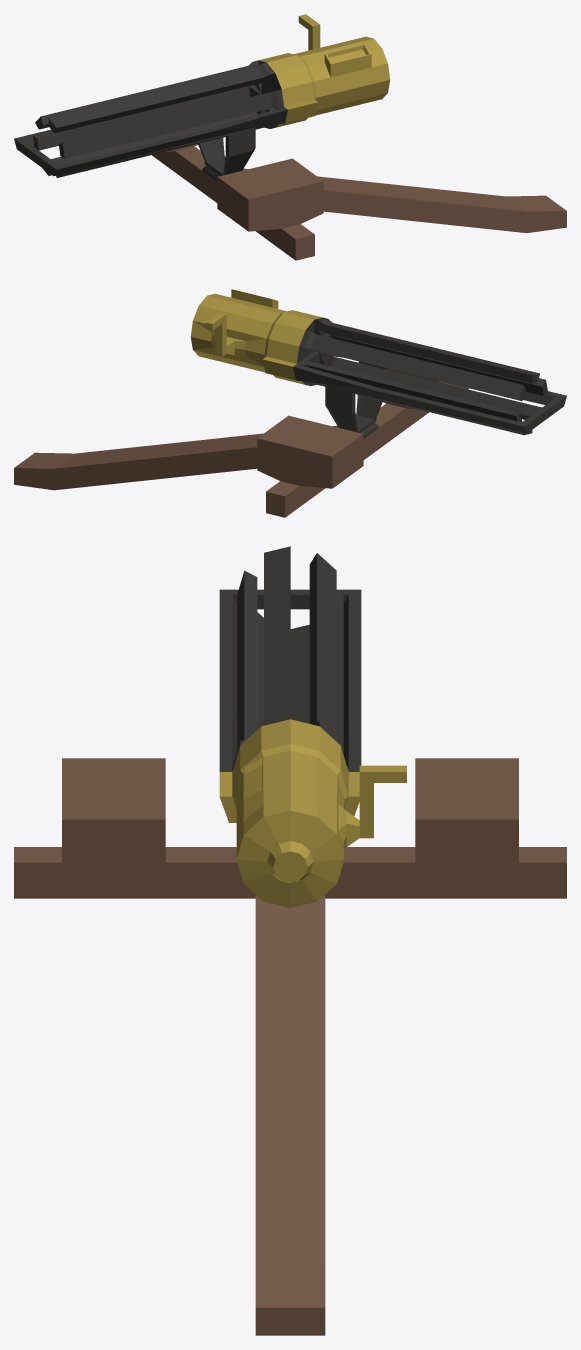
File: gatling.fbx
3 views of the same model, one above another, from view 1: azimuth 30°, elevation 25°; view 2: azimuth 150°, elevation 25°; view 3: azimuth 270°, elevation 25° (orthographic). The views are drawn at different scales.
Parts seen in each view (by area): view 1: pCylinder1; view 2: pCylinder1; view 3: pCylinder1.
Boxes of the visible parts, x1,y1,x2,y2 form: pCylinder1: (14, 14, 566, 260); pCylinder1: (14, 289, 566, 517); pCylinder1: (14, 546, 566, 1335).
Bounding box in the file's own units: 17.28 × 7.37 × 9.52.
